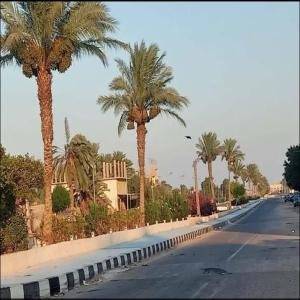palm tree: (0, 0, 129, 244), (96, 38, 190, 225), (52, 115, 94, 210), (195, 131, 222, 210), (218, 137, 244, 209)
